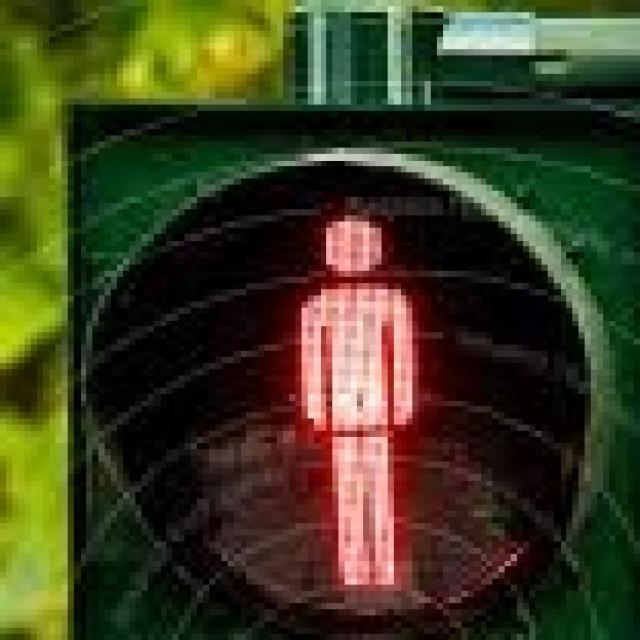red-crossing: (247, 183, 456, 614)
